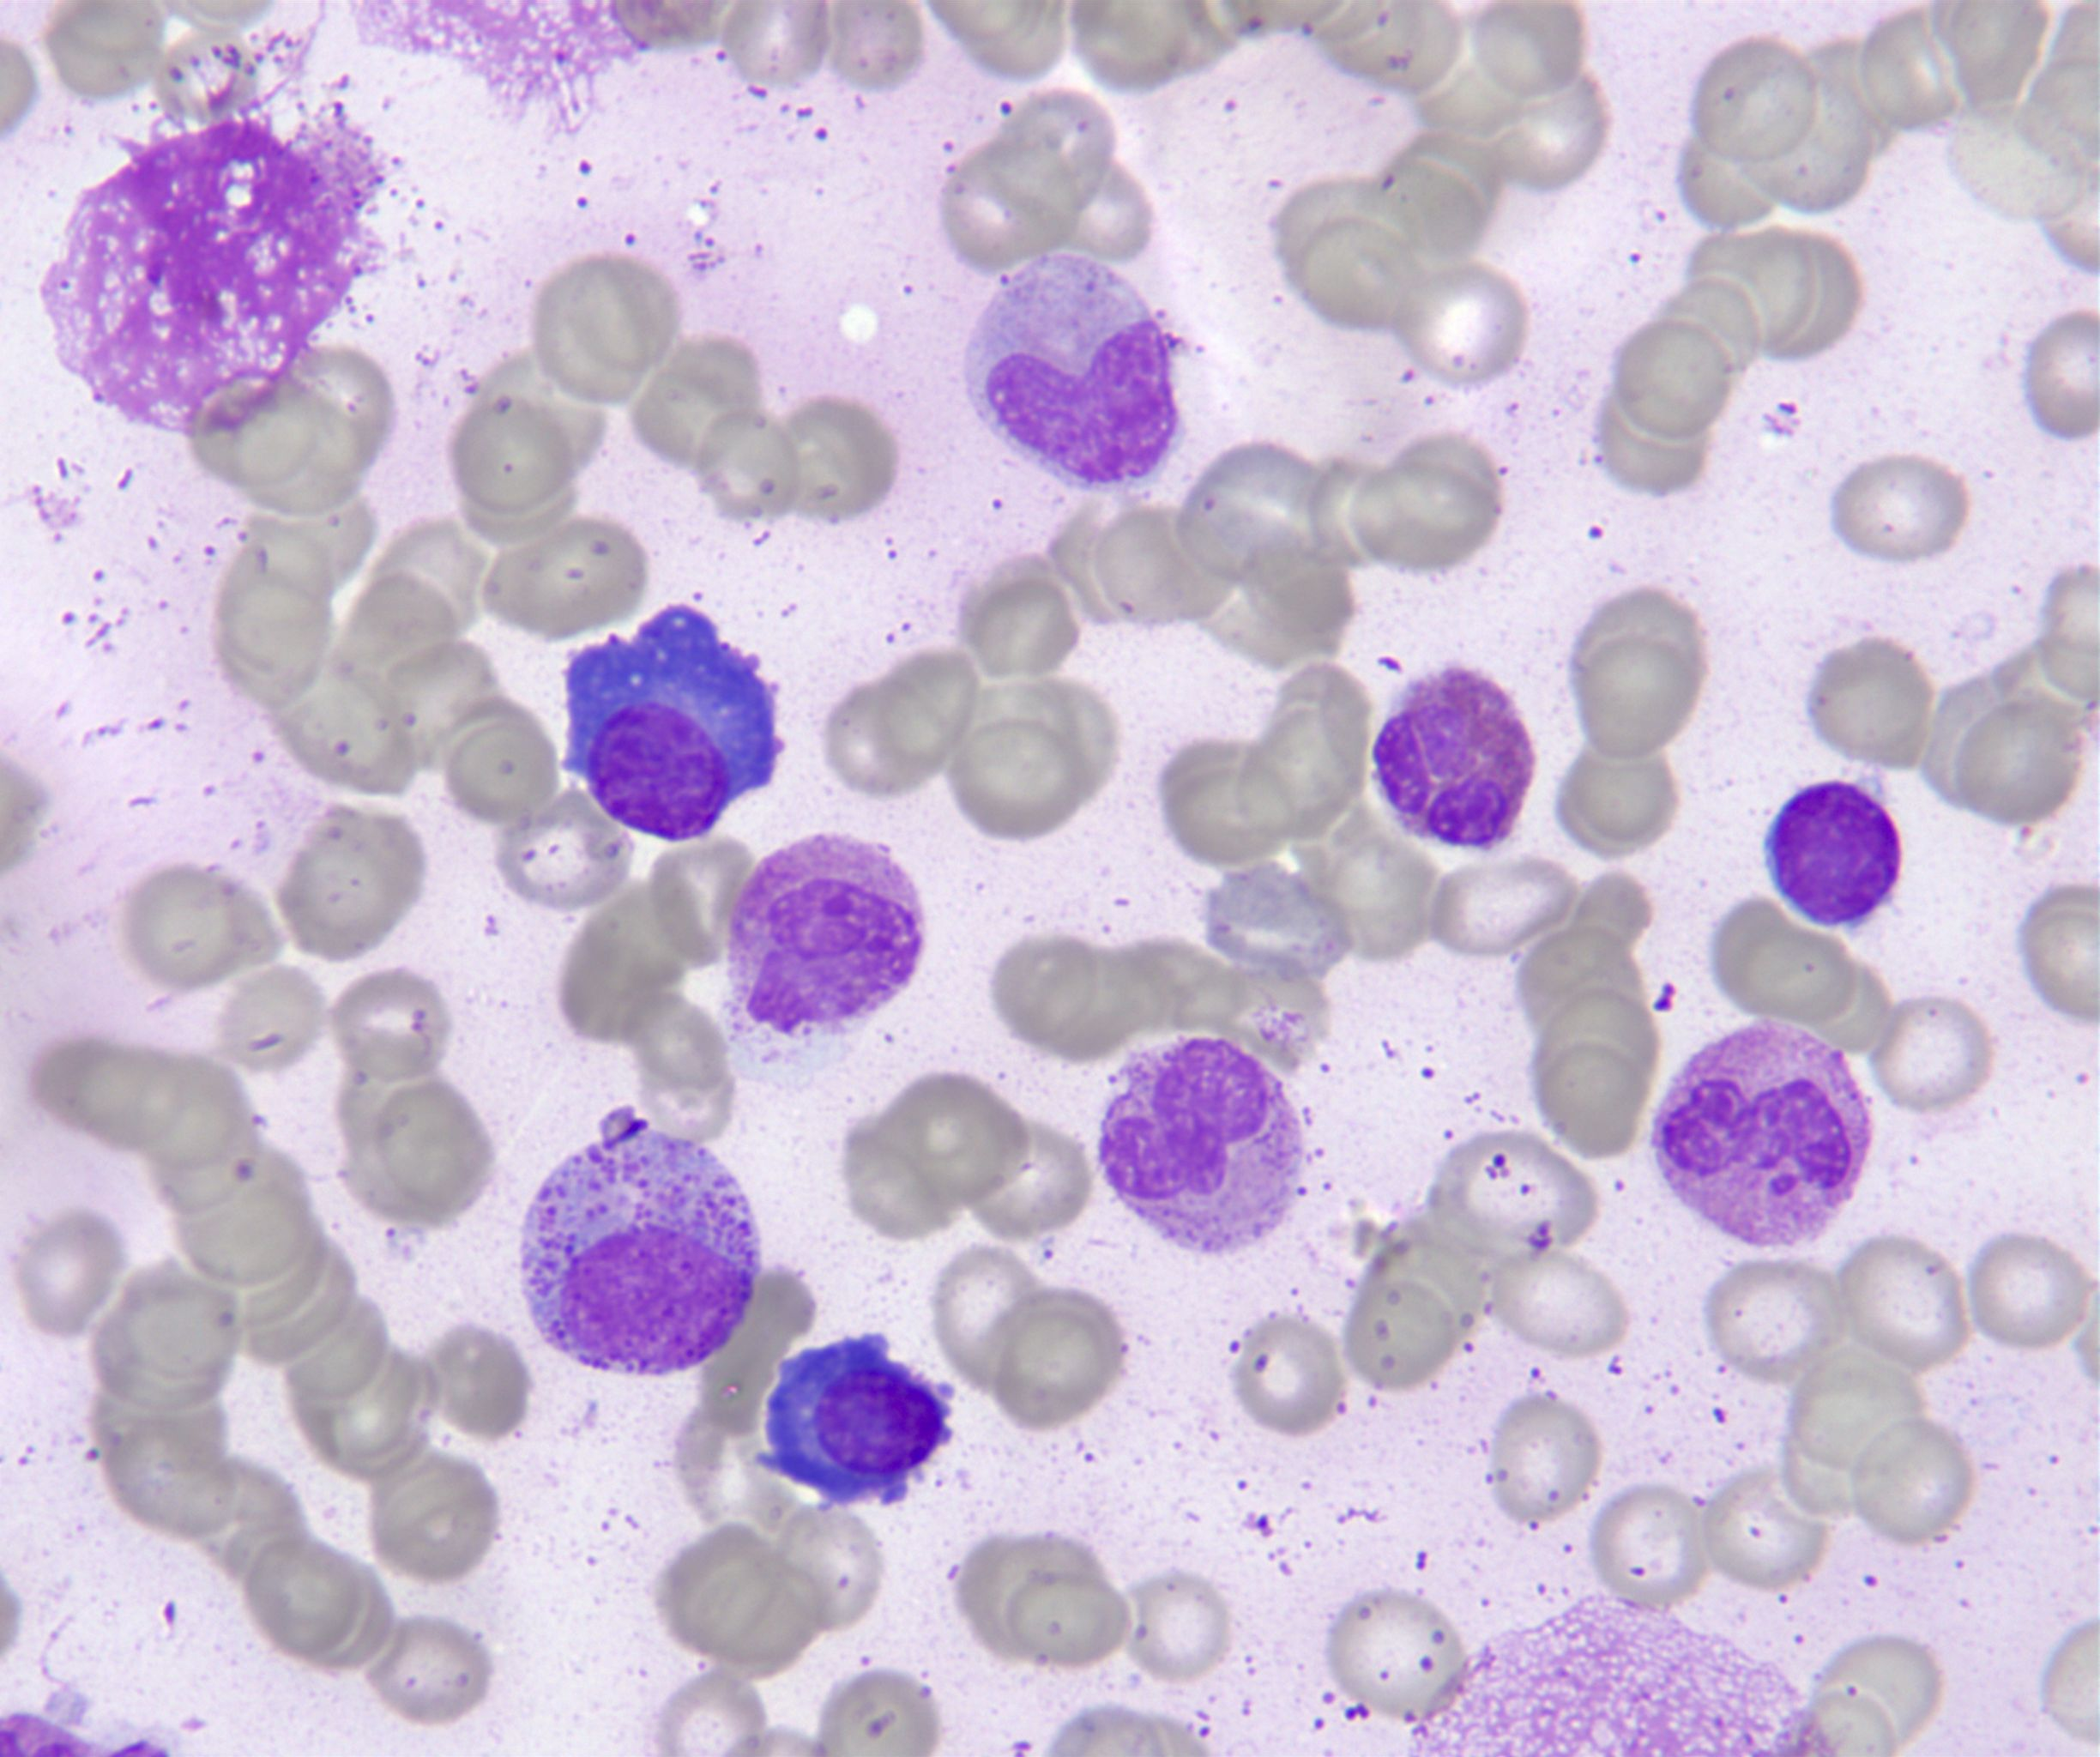2: (518, 1106, 759, 1377)
32: (1763, 780, 1901, 928)
4: (963, 253, 1184, 492)
5: (724, 834, 924, 1085), (1099, 1038, 1305, 1256)
52: (562, 604, 776, 843), (759, 1335, 951, 1513)
6: (1652, 1017, 1872, 1248)
E4: (1374, 667, 1535, 850)
x: (42, 120, 392, 434)
